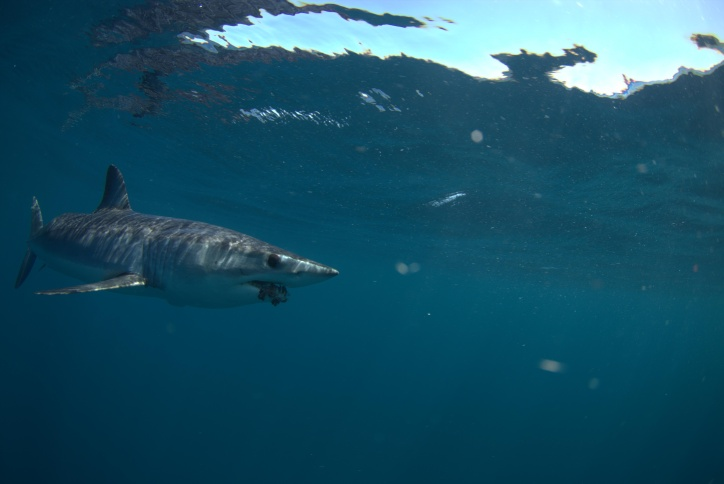Mako: (13, 159, 340, 319)
